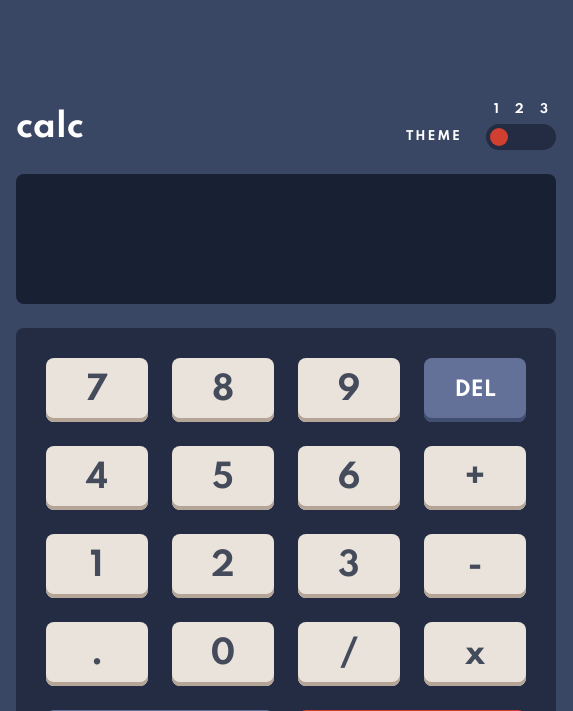
Test: App › resets after a finished calculation
Click the button "2" at coordinates (223, 566), box [172,534,274,598]
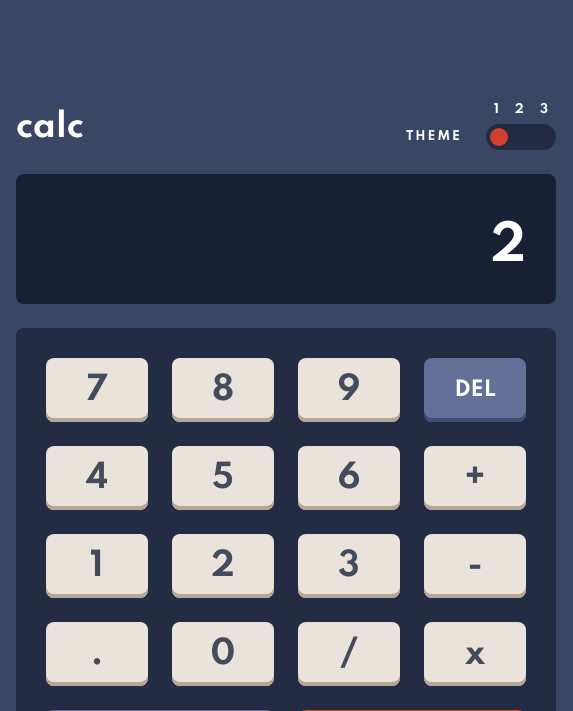
Click the button "2" at coordinates (223, 566), box [172,534,274,598]
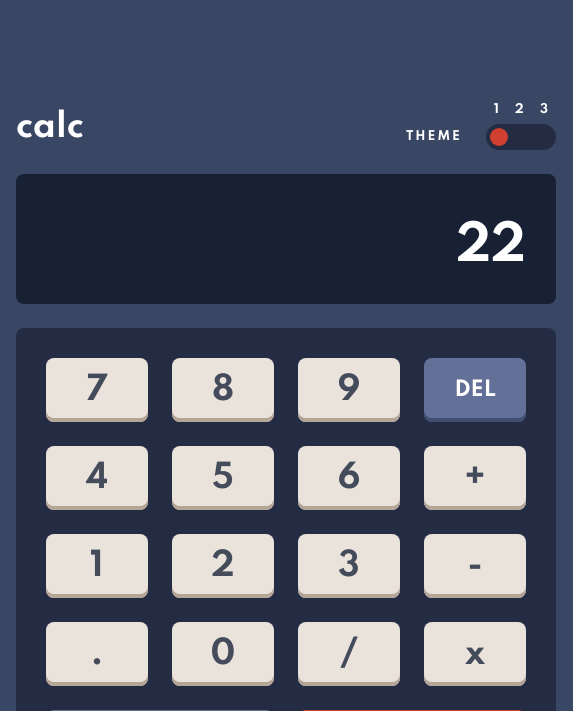
Click the button "+" at coordinates (475, 478), box [424,446,526,510]
(page scrolled)
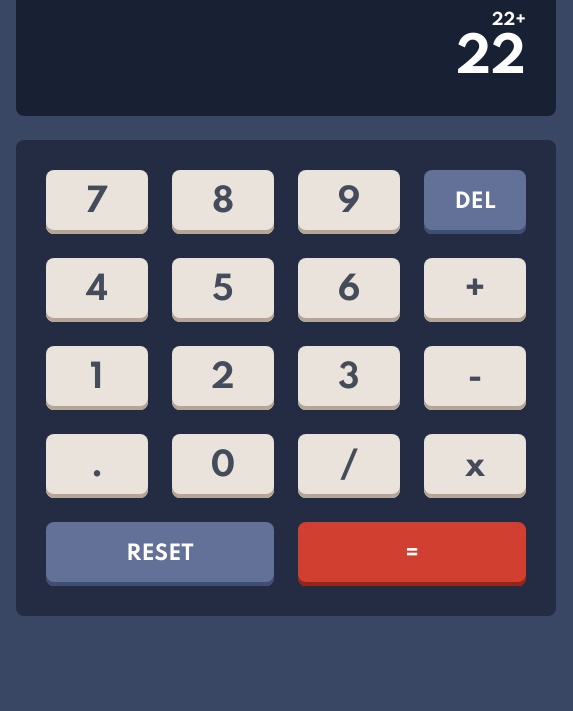
Now the text with test id "equation" reads "22+", box [492,11,526,29]
Click the button "=" at coordinates (412, 554), box [298,522,526,586]
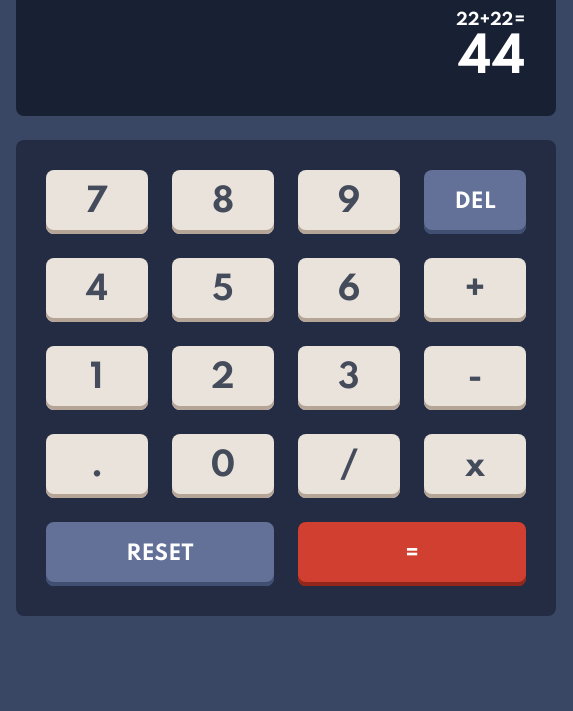
Now the message reads "44", box [458,32,526,85]
Click the button "1" at coordinates (97, 378), box [46,346,148,410]
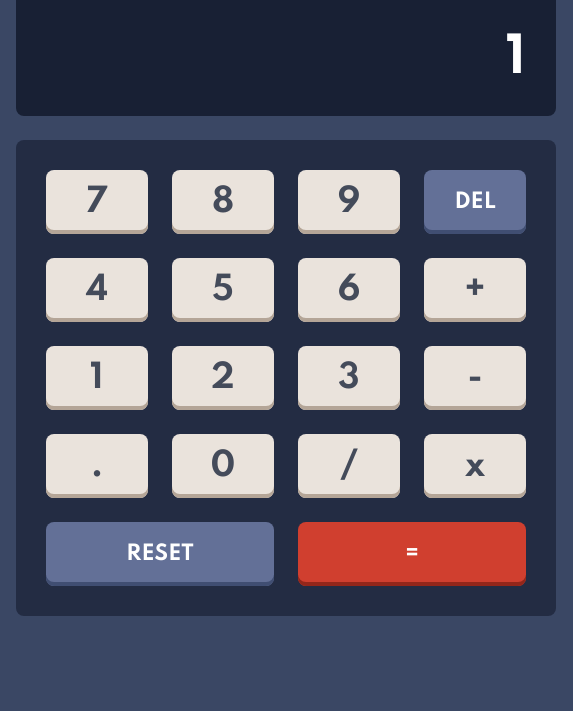
Now the message reads "1", box [506,32,526,85]
